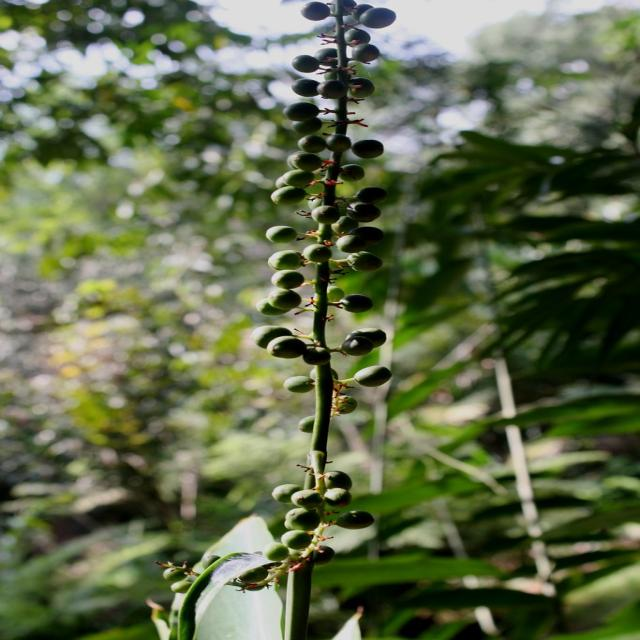Aquatic-Ginger: (251, 1, 397, 564)
